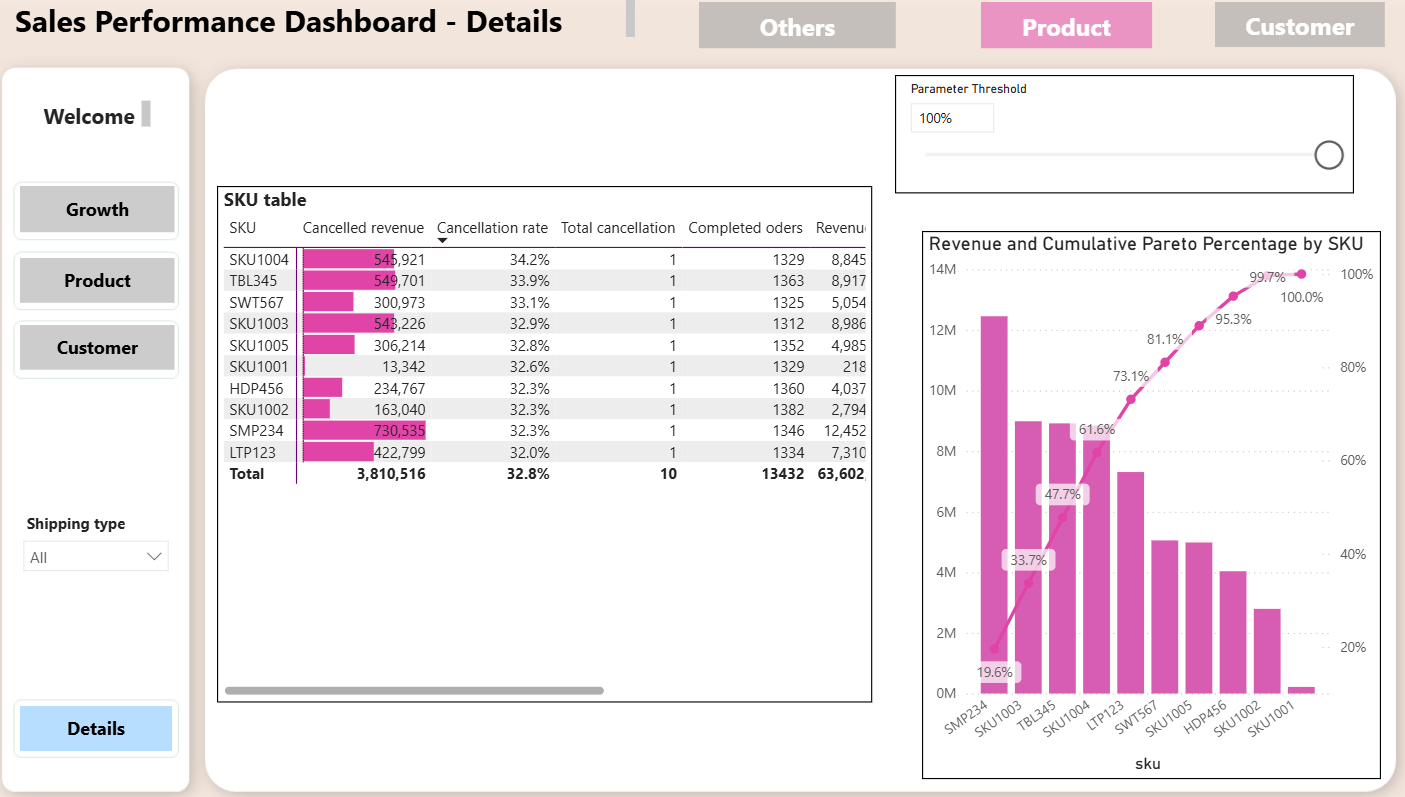

Layout of this report page (visuals, bound fields, positions):
{"tool":"powerbi","page":{"name":"Details","canvas":[1280,720],"ordinal":3},"visuals":[{"type":"actionButton","title":"Customer button inactive","box":[1097.5,8,150.6,39.9],"z":2000},{"type":"actionButton","title":"Product button active","box":[889.8,8,151.7,41.1],"z":4000},{"type":"lineClusteredColumnComboChart","title":"Revenue and Cumulative Pareto Percentage by SKU","fields":{"Category":["dim_product.sku"],"Y":["*Measure.M_revenue"],"Y2":["Pareto measure.Pareto %"]},"box":[837.6,211.2,406.8,486.1],"z":5000},{"type":"slicer","fields":{"Values":["Parameter Threshold.Parameter Threshold"]},"box":[813.7,73,406.8,104.9],"z":6000},{"type":"pivotTable","title":"SKU table","fields":{"Rows":["dim_product.product type","dim_product.sku"],"Values":["Sum(dim_product.cancelled revenue)","*Measure.M_Cancellation rate","CountNonNull(dim_product.total cancellation)","*Measure.M_completed oders","*Measure.M_revenue","*Measure.M_%_revenue product","*Measure.M_profit margin","*Measure.M_cost"]},"box":[212.8,171.1,580.8,458.4],"z":7000},{"type":"textbox","box":[28.3,0,559.8,45.4],"z":8000},{"type":"textbox","box":[48.2,90.7,110.6,34],"z":9000},{"type":"actionButton","box":[38.3,171.5,137.5,41.1],"z":10000},{"type":"actionButton","box":[38.3,235.3,137.5,39.7],"z":11000},{"type":"actionButton","box":[38.3,294.8,137.5,39.7],"z":12000},{"type":"actionButton","box":[28.3,632.1,144.6,39.7],"z":13000},{"type":"actionButton","title":"Product button inactive","box":[640,8,174.5,41.1],"z":14000},{"type":"slicer","fields":{"Values":["dim_shipping.shipping type"]},"box":[31,456.7,148.8,62.4],"z":21001}]}

Visuals, with their boxes in screenshot pixels (x1, y1, x2, y2), scaled from the page's 1280x720 canvas onto the 1405x797 screenshot:
"Customer button inactive" actionButton: {"x1": 1205, "y1": 9, "x2": 1370, "y2": 53}
"Product button active" actionButton: {"x1": 977, "y1": 9, "x2": 1143, "y2": 54}
"Revenue and Cumulative Pareto Percentage by SKU" lineClusteredColumnComboChart: {"x1": 919, "y1": 234, "x2": 1366, "y2": 772}
slicer - Parameter Threshold.Parameter Threshold: {"x1": 893, "y1": 81, "x2": 1340, "y2": 197}
"SKU table" pivotTable: {"x1": 234, "y1": 189, "x2": 871, "y2": 697}
textbox: {"x1": 31, "y1": 0, "x2": 646, "y2": 50}
textbox: {"x1": 53, "y1": 100, "x2": 174, "y2": 138}
actionButton: {"x1": 42, "y1": 190, "x2": 193, "y2": 235}
actionButton: {"x1": 42, "y1": 260, "x2": 193, "y2": 304}
actionButton: {"x1": 42, "y1": 326, "x2": 193, "y2": 370}
actionButton: {"x1": 31, "y1": 700, "x2": 190, "y2": 744}
"Product button inactive" actionButton: {"x1": 702, "y1": 9, "x2": 894, "y2": 54}
slicer - dim_shipping.shipping type: {"x1": 34, "y1": 506, "x2": 197, "y2": 575}
